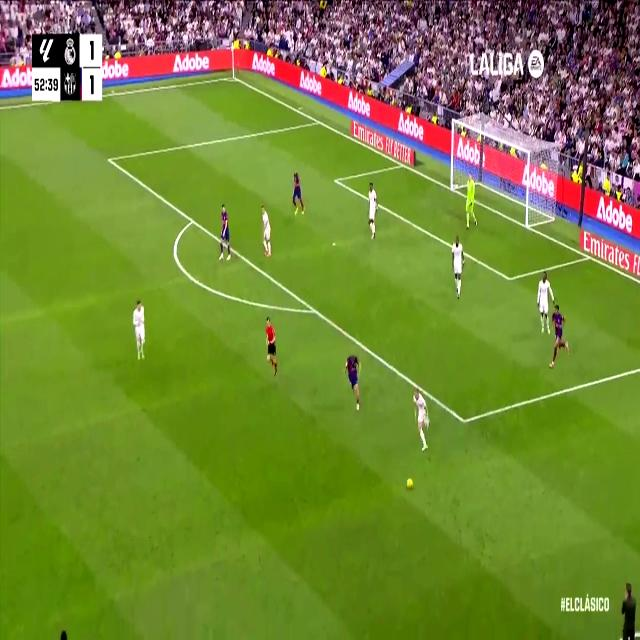bigarea_bottom_inner: (457, 404, 471, 436)
bigarea_top_inner: (104, 148, 114, 169)
bigarea_top_outter: (315, 114, 322, 128)
bottom_arc_area_intersection: (308, 298, 320, 321)
corner: (230, 72, 237, 81)
smallarea_bottom_inner: (504, 266, 514, 290)
smallarea_top_inner: (333, 173, 339, 187)
top_arc_area_intersection: (189, 212, 196, 228)
